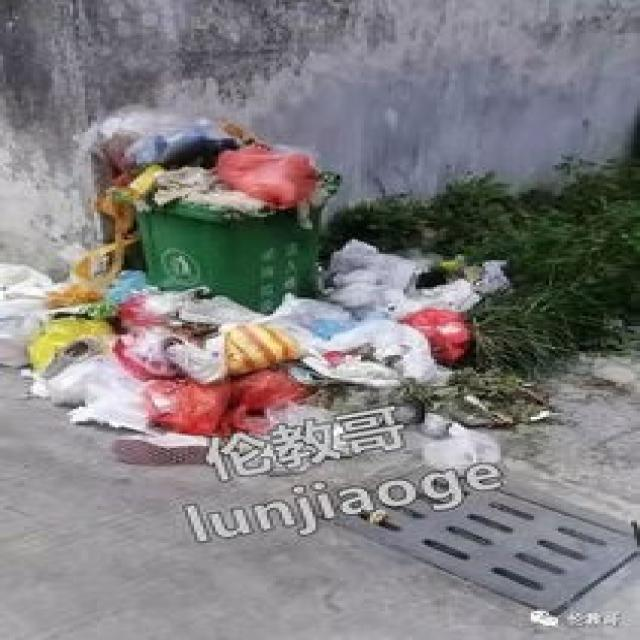garbage: (0, 237, 513, 475)
overflow: (76, 101, 340, 314)
